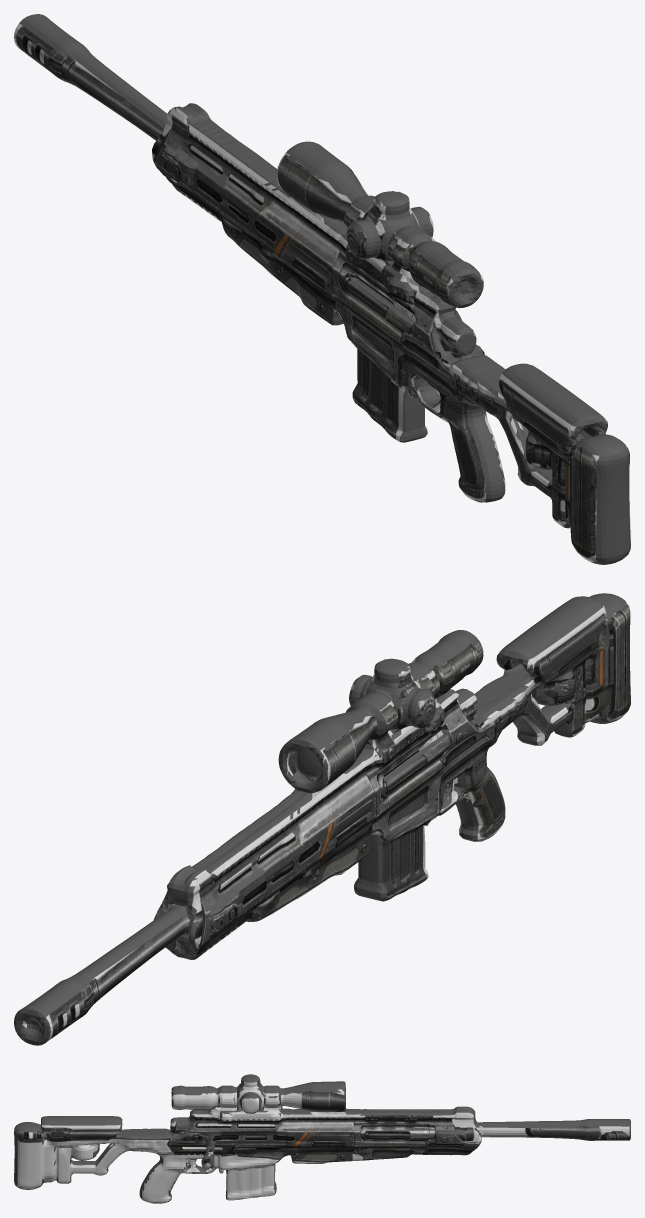
Rendered from sentinel.glb.
3 views of the same model, one above another, from view 1: azimuth 30°, elevation 25°; view 2: azimuth 150°, elevation 25°; view 3: azimuth 270°, elevation 25° (orthographic). The views are drawn at different scales.
Parts seen in each view (by area): view 1: geometry_0; view 2: geometry_0; view 3: geometry_0.
Boxes of the visible parts, x1,y1,x2,y2 form: geometry_0: (14,14,630,564); geometry_0: (14,593,630,1045); geometry_0: (14,1074,630,1203).
Bounding box in the file's own units: 0.0841 × 0.2113 × 0.95.
Materials: 1 (1 with a texture image).
